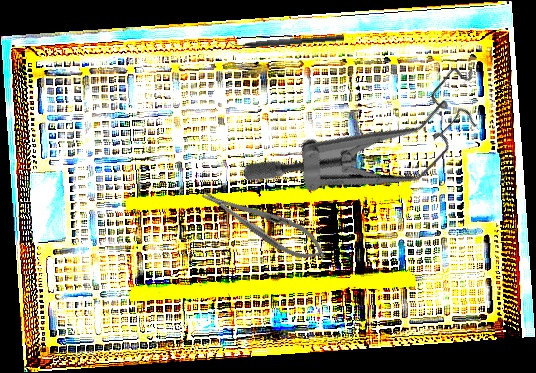Chopper: (224, 26, 345, 52)
Needle Holder: (195, 177, 333, 271)
Speculum: (237, 1, 507, 271)
